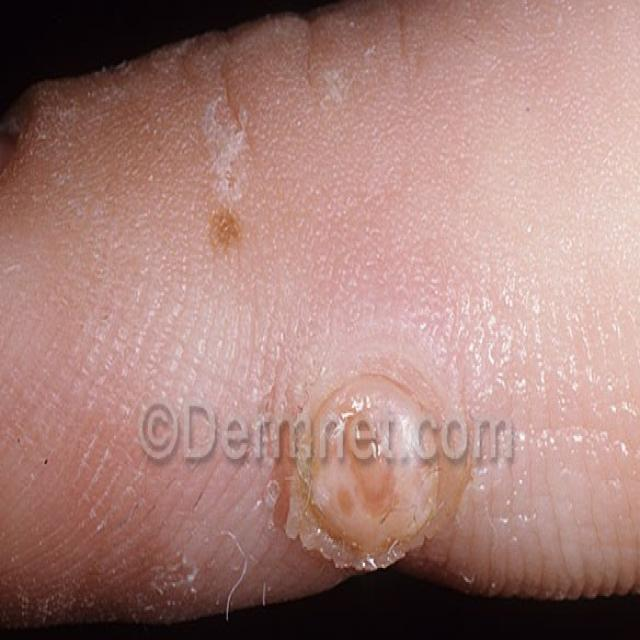Warts: (269, 371, 460, 586), (189, 102, 265, 304)
